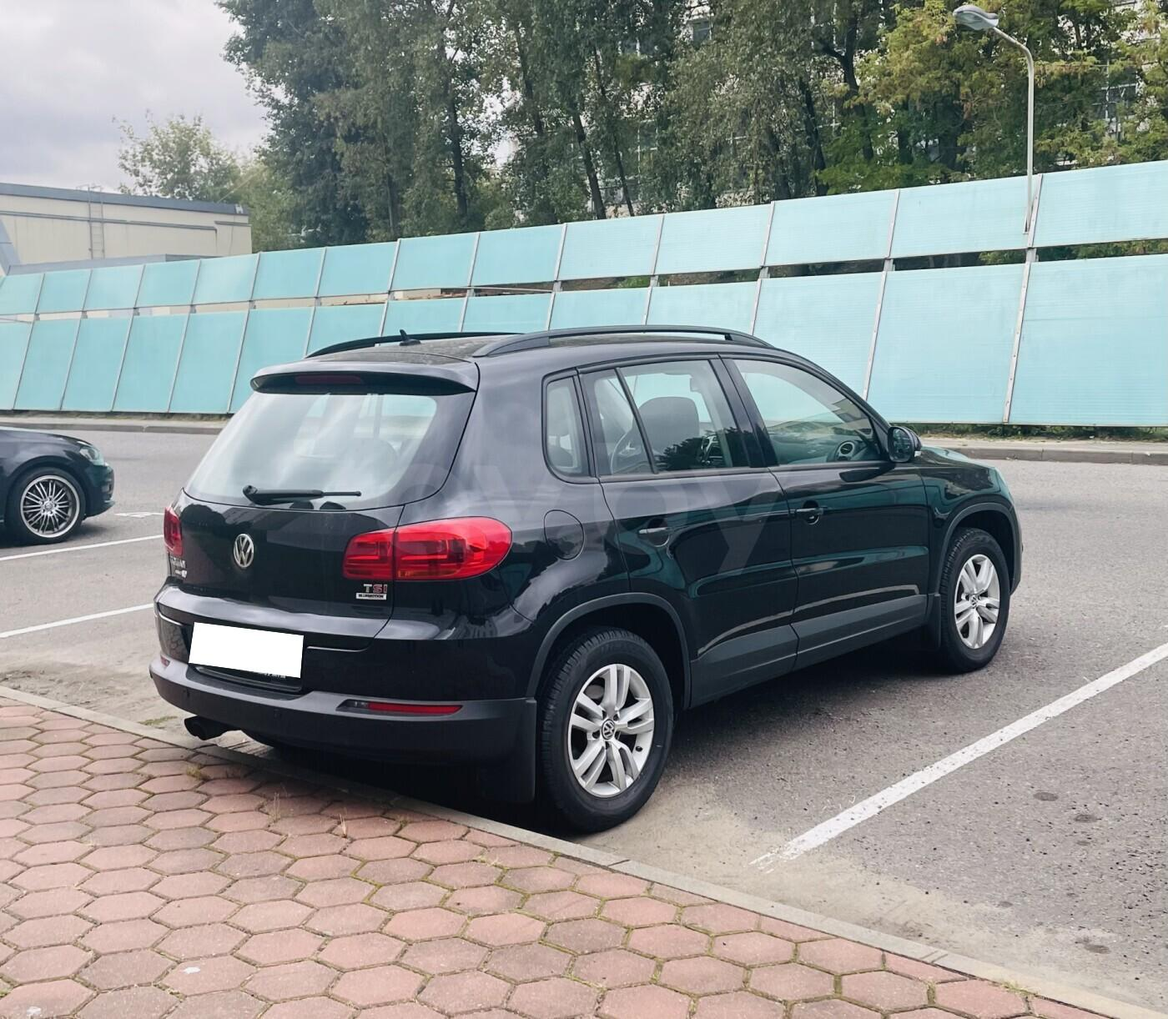Tiguan_2011-2018: (152, 331, 1023, 831)
